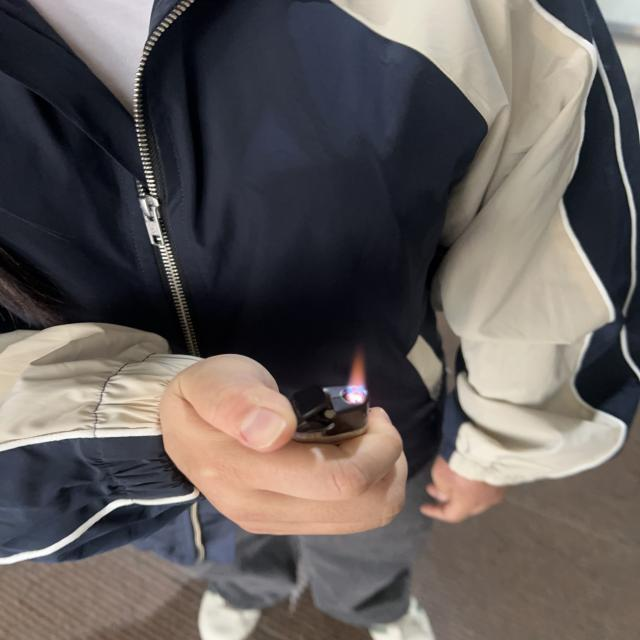fire: (348, 354, 368, 392)
